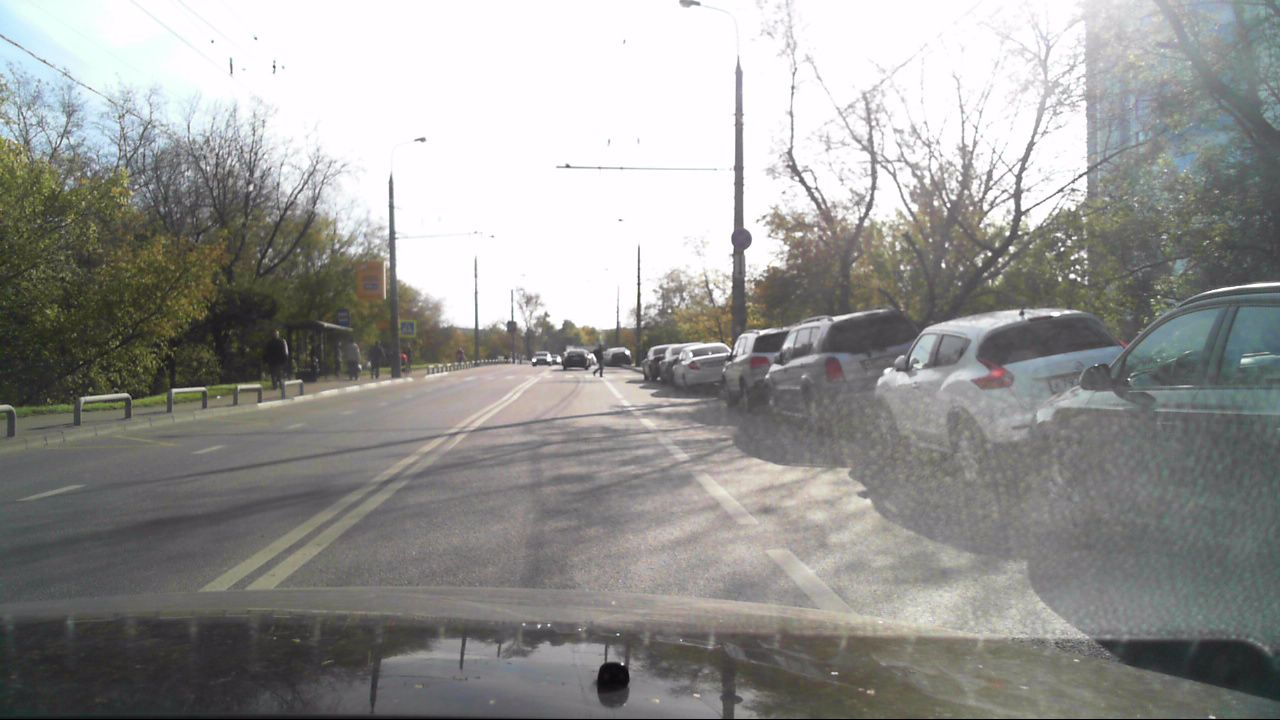No Parking: (730, 227, 752, 248)
